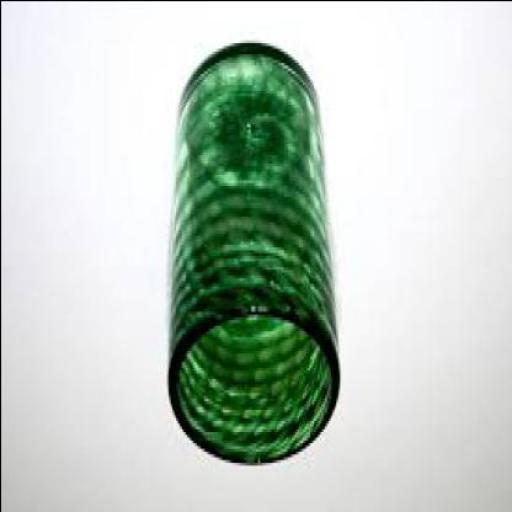glass: (166, 44, 336, 468)
